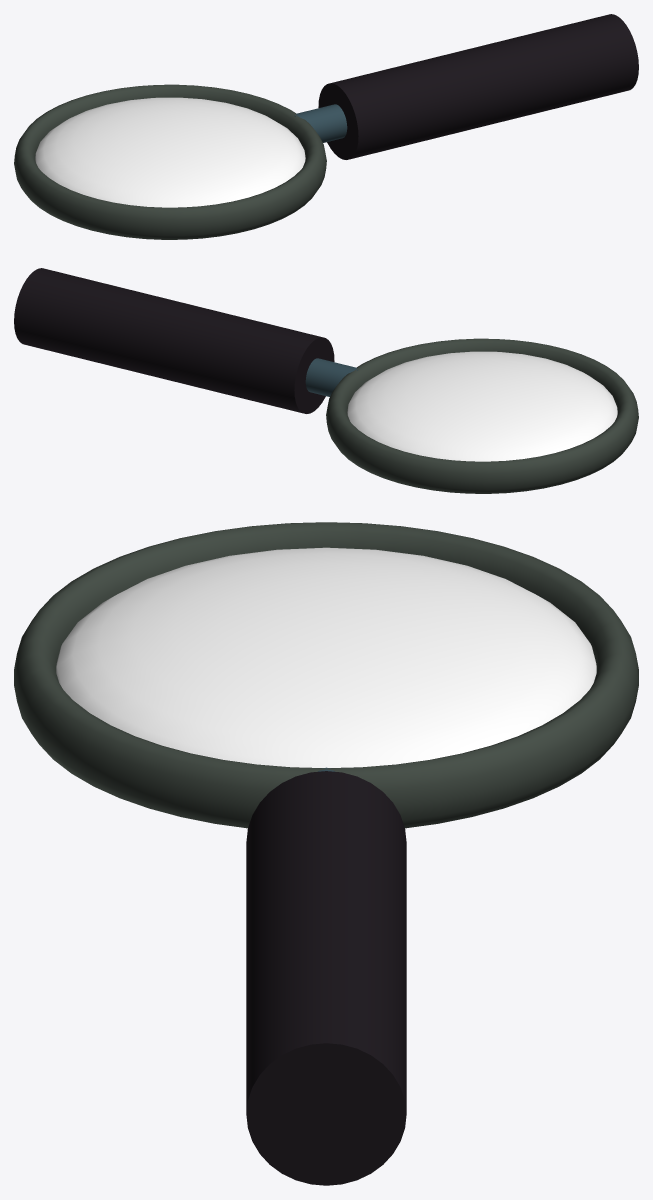
The model's file is lupa.glb.
The picture shows the model from 3 angles, top to bottom: view 1: azimuth 30°, elevation 25°; view 2: azimuth 150°, elevation 25°; view 3: azimuth 270°, elevation 25°; orthographic projection. The views are drawn at different scales.
Parts seen in each view (by area): view 1: MANGO, LENTE, MARCO, ASA001; view 2: MANGO, LENTE, MARCO, ASA001; view 3: LENTE, MANGO, MARCO.
Boxes of the visible parts, left/top/right/bottom form: MANGO: left=318, top=14, right=638, bottom=159; LENTE: left=35, top=97, right=305, bottom=207; MARCO: left=14, top=84, right=326, bottom=239; ASA001: left=294, top=104, right=347, bottom=142; MANGO: left=14, top=268, right=334, bottom=413; LENTE: left=347, top=351, right=617, bottom=461; MARCO: left=326, top=338, right=638, bottom=493; ASA001: left=305, top=358, right=358, bottom=396; LENTE: left=56, top=547, right=596, bottom=767; MANGO: left=246, top=771, right=406, bottom=1185; MARCO: left=14, top=522, right=638, bottom=828.
Size of the model in its own units: 4.91 by 0.5783 by 2.28.
